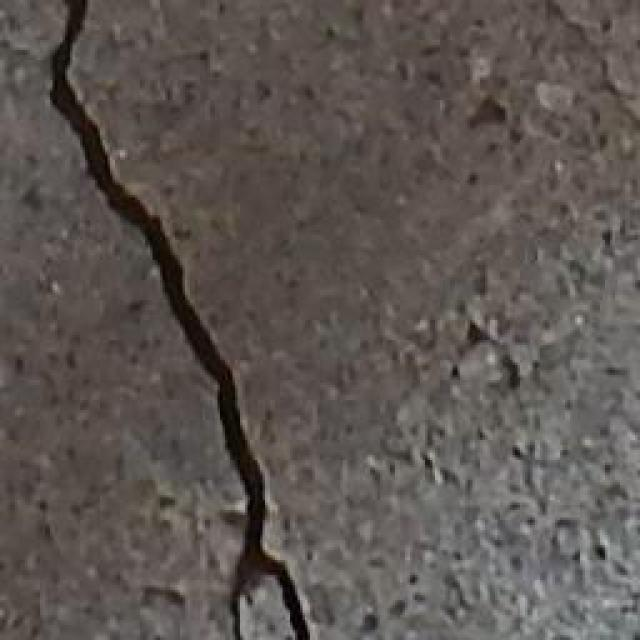concrete-crack: (41, 0, 320, 640)
